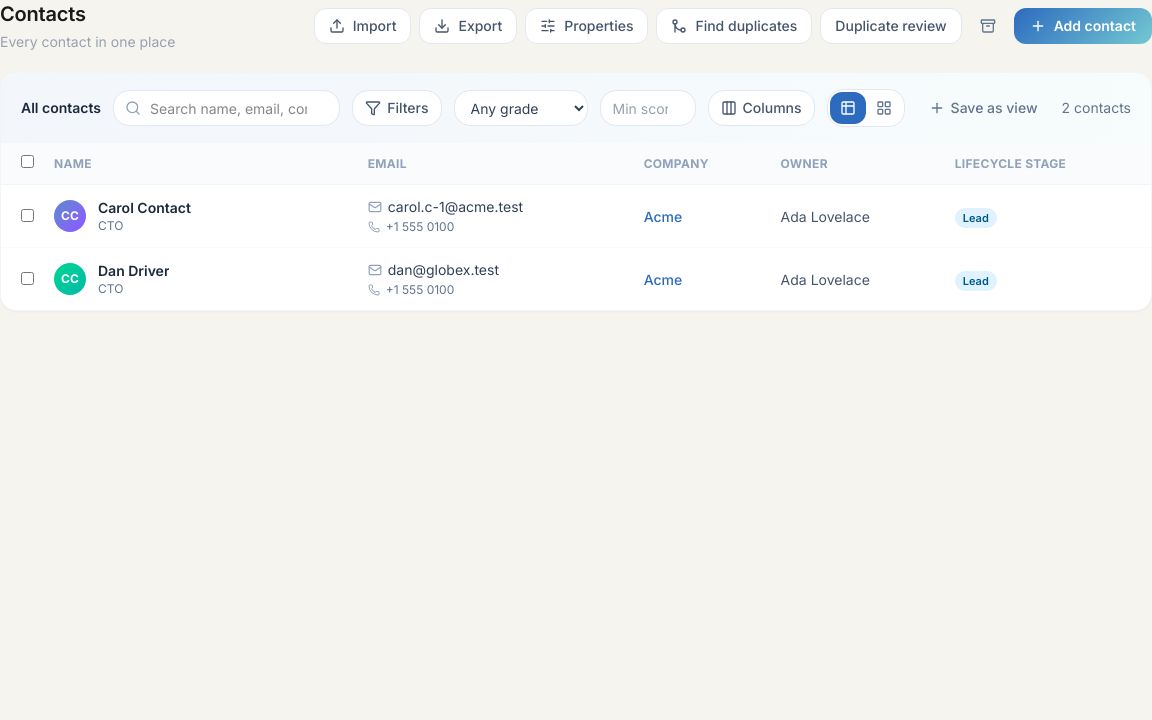
Scenario: Contacts page › opens the add-contact dialog
Expected: the text "Carol Contact" is shown, top-left (98, 198), bottom-right (191, 218)
Step 1. Click the button "Add contact" → (1083,26), box top-left (1014, 8), bottom-right (1151, 44)
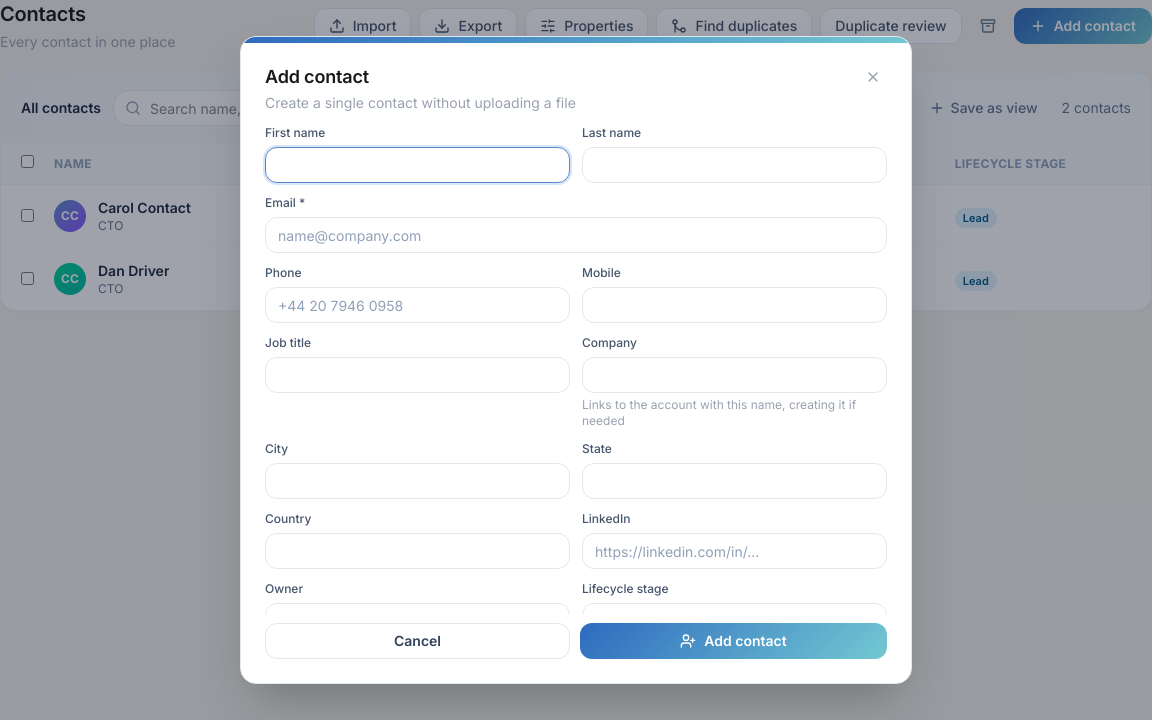
Result: the heading "Add contact" is shown at top-left (265, 66), bottom-right (369, 87)
